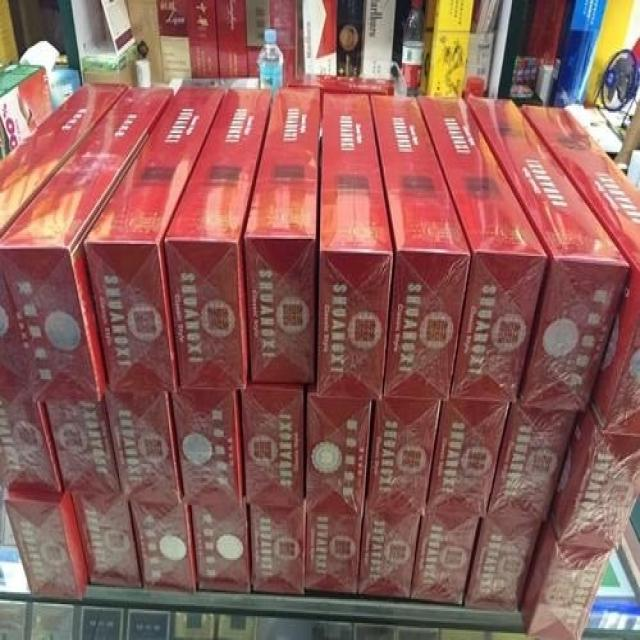box: (0, 87, 174, 403), (466, 97, 630, 413), (84, 87, 225, 393), (417, 96, 549, 403), (521, 104, 640, 437), (165, 87, 274, 391), (371, 96, 470, 403), (243, 87, 323, 384), (317, 92, 393, 399), (0, 84, 128, 237), (548, 411, 640, 551), (488, 403, 580, 524), (520, 522, 613, 640), (428, 399, 509, 517), (365, 399, 443, 519), (4, 493, 90, 601), (170, 387, 246, 507), (105, 393, 186, 505), (306, 382, 371, 517), (241, 382, 305, 507), (44, 398, 122, 495), (463, 519, 543, 613), (72, 495, 143, 587), (411, 515, 480, 606), (549, 0, 607, 108), (129, 505, 198, 592), (0, 401, 64, 493), (0, 61, 54, 162), (192, 503, 252, 592), (358, 519, 421, 601), (250, 509, 307, 596), (426, 0, 474, 97), (307, 514, 362, 594), (0, 271, 33, 404), (156, 0, 192, 84), (362, 0, 396, 80), (187, 0, 220, 79), (216, 0, 248, 77), (270, 0, 298, 80), (338, 0, 365, 79), (244, 0, 271, 77), (29, 602, 81, 640), (79, 606, 127, 640), (419, 2, 436, 92), (125, 609, 172, 640), (170, 613, 218, 640), (0, 601, 32, 640), (216, 614, 259, 640), (312, 620, 353, 640), (353, 625, 396, 640), (396, 626, 439, 640), (440, 628, 488, 640)
